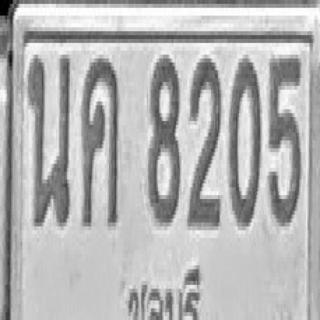A04: (81, 55, 119, 226)
A25: (27, 53, 71, 228)
N00: (228, 55, 261, 226)
N02: (187, 55, 221, 226)
N05: (268, 55, 301, 226)
N08: (147, 55, 180, 226)
P13: (129, 262, 201, 320)
